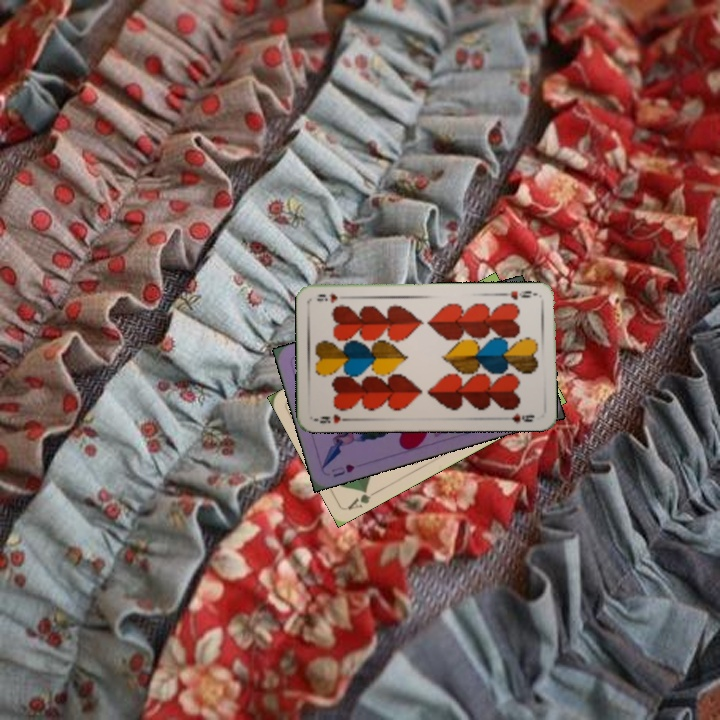GA: (344, 484, 382, 512)
H9: (316, 410, 352, 426), (499, 287, 534, 302)
HU: (327, 460, 357, 480)
